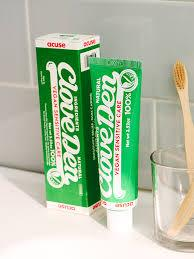toothpaste: (85, 55, 148, 240)
